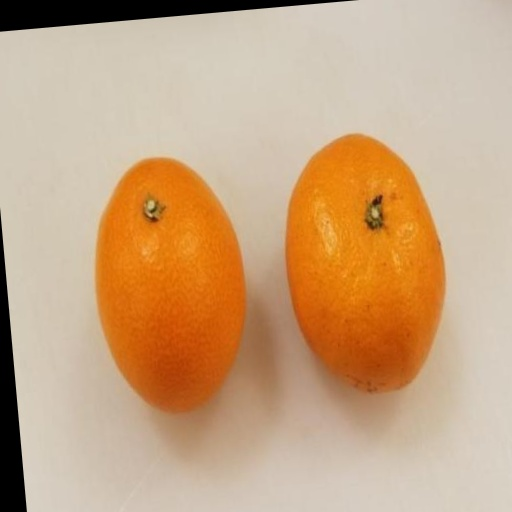fruit: (286, 135, 445, 391), (96, 158, 245, 412)
